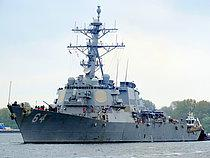MIL_Ship: (6, 20, 202, 143)
